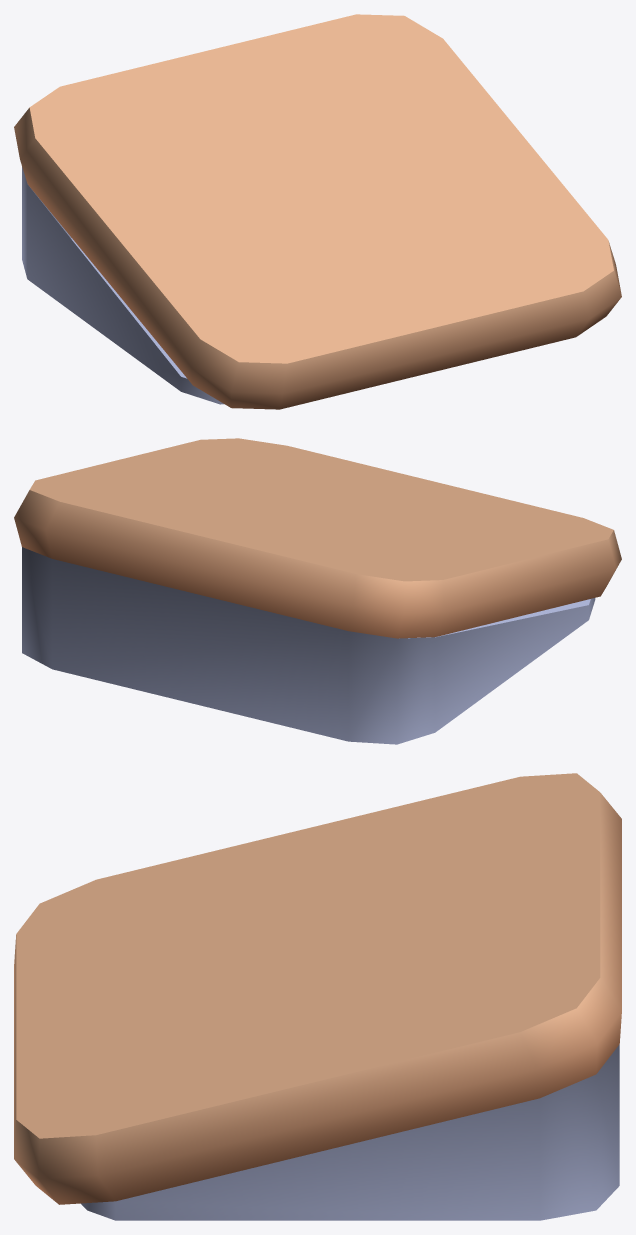
File: block-grass-large-slope.glb
3 views of the same model, one above another, from view 1: azimuth 30°, elevation 25°; view 2: azimuth 150°, elevation 25°; view 3: azimuth 270°, elevation 25° (orthographic). The views are drawn at different scales.
Visible parts, largest first — view 1: block-grass-large-slope; view 2: block-grass-large-slope; view 3: block-grass-large-slope.
Boxes of the visible parts, left/top/right/bottom form: block-grass-large-slope: left=14, top=14, right=621, bottom=409; block-grass-large-slope: left=14, top=438, right=621, bottom=744; block-grass-large-slope: left=14, top=773, right=621, bottom=1220.
Size of the model in its own units: 2.08 by 0.7591 by 2.01.
